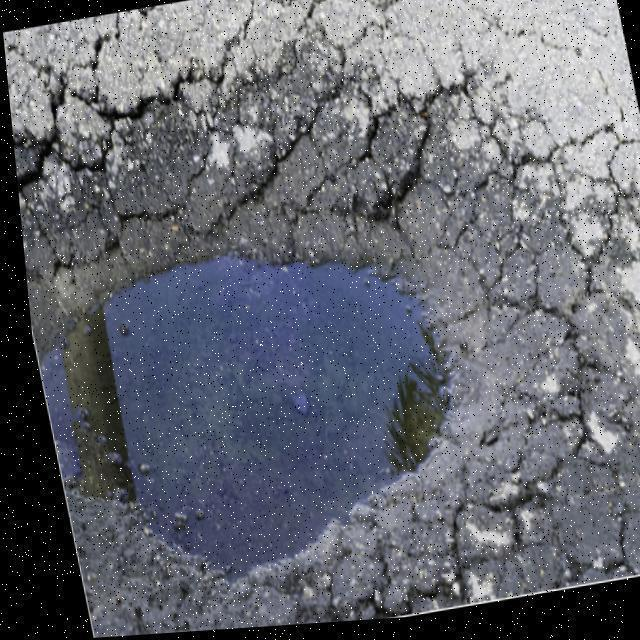Pothole: (12, 47, 592, 633)
